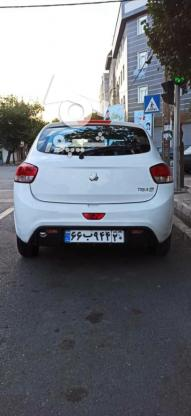car: (64, 229, 128, 244)
